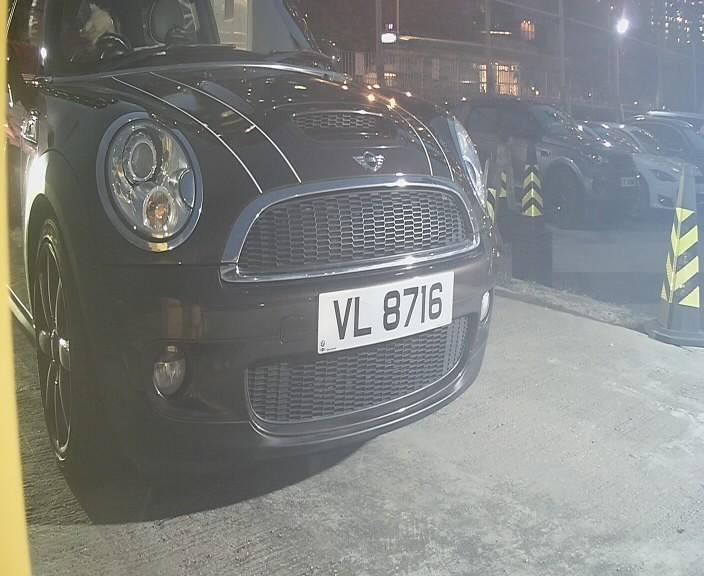privatecar: (5, 2, 502, 500)
